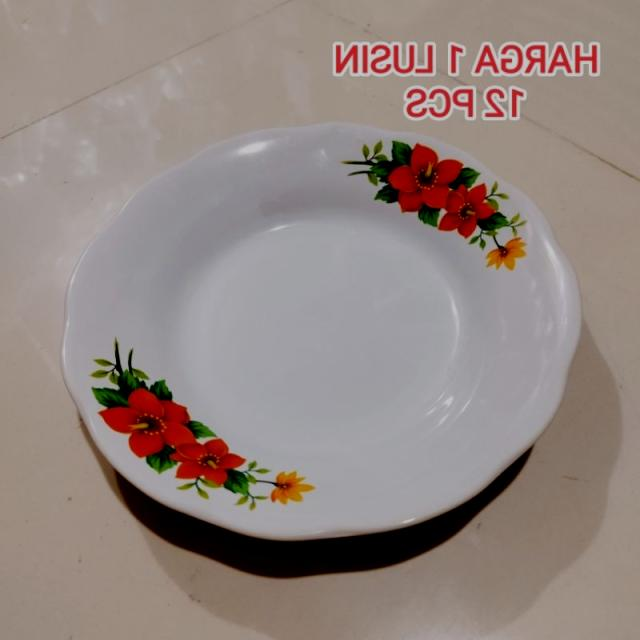Piring: (45, 139, 597, 552)
